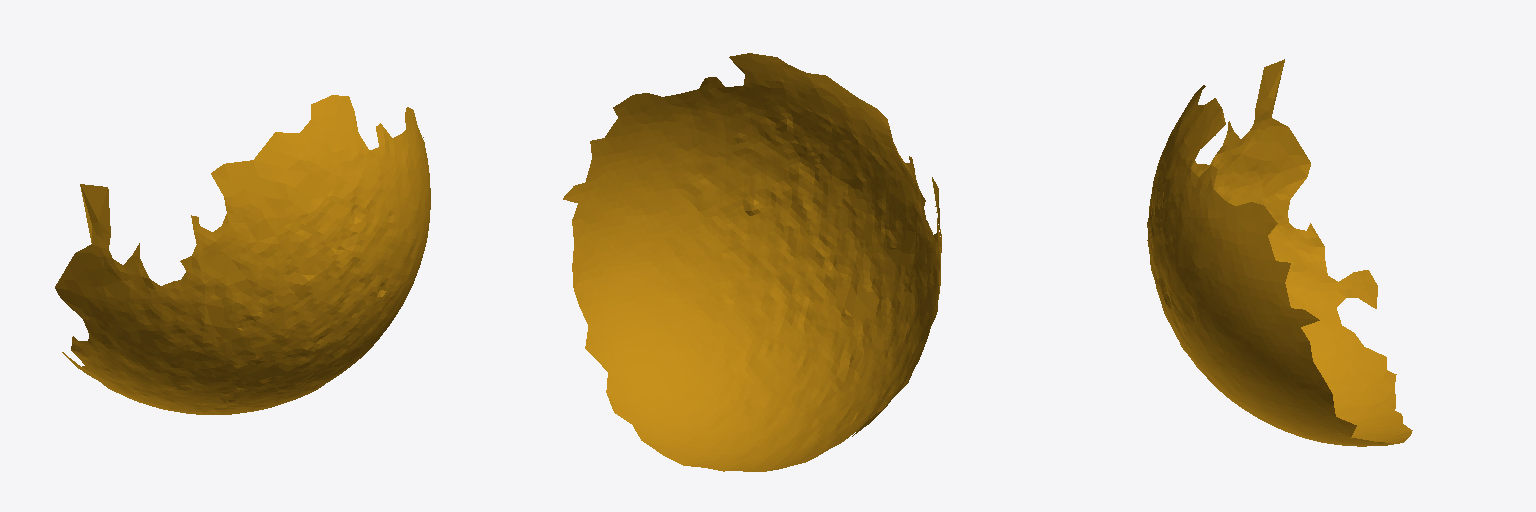
File: HorizontalSphere_L20.000001.obj
3 views of the same model, side by side, from view 1: azimuth 30°, elevation 25°; view 2: azimuth 150°, elevation 25°; view 3: azimuth 270°, elevation 25° (orthographic).
Parts seen in each view (by area): view 1: HorizontalSphere_L20.000001; view 2: HorizontalSphere_L20.000001; view 3: HorizontalSphere_L20.000001.
Boxes of the visible parts, <box> form: HorizontalSphere_L20.000001: <box>55,95,430,414</box>; HorizontalSphere_L20.000001: <box>563,53,941,471</box>; HorizontalSphere_L20.000001: <box>1147,59,1412,446</box>.
Bounding box in the file's own units: 157 × 138 × 97.31.